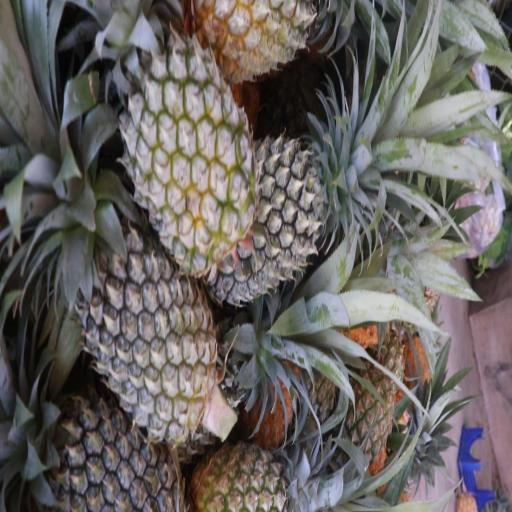------------------------------: (110, 10, 251, 257)
